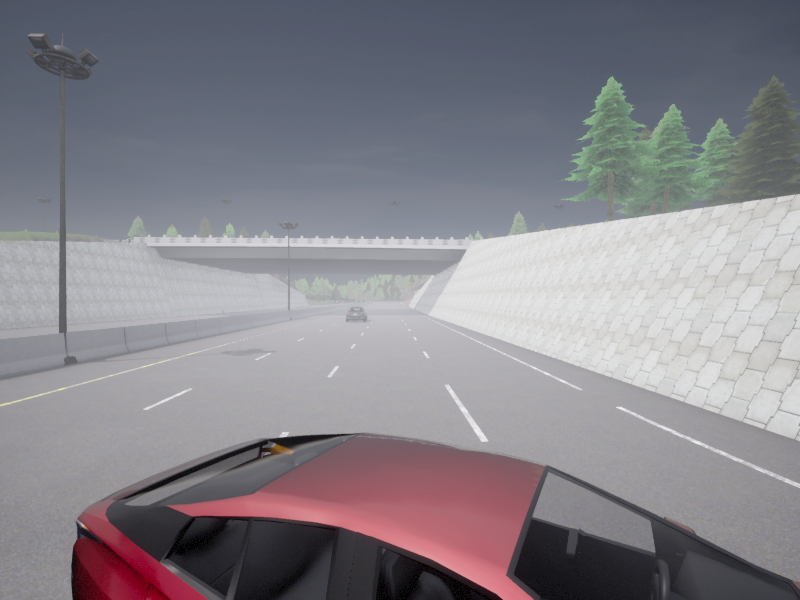vehicle: (71, 432, 799, 599), (346, 307, 366, 321)
